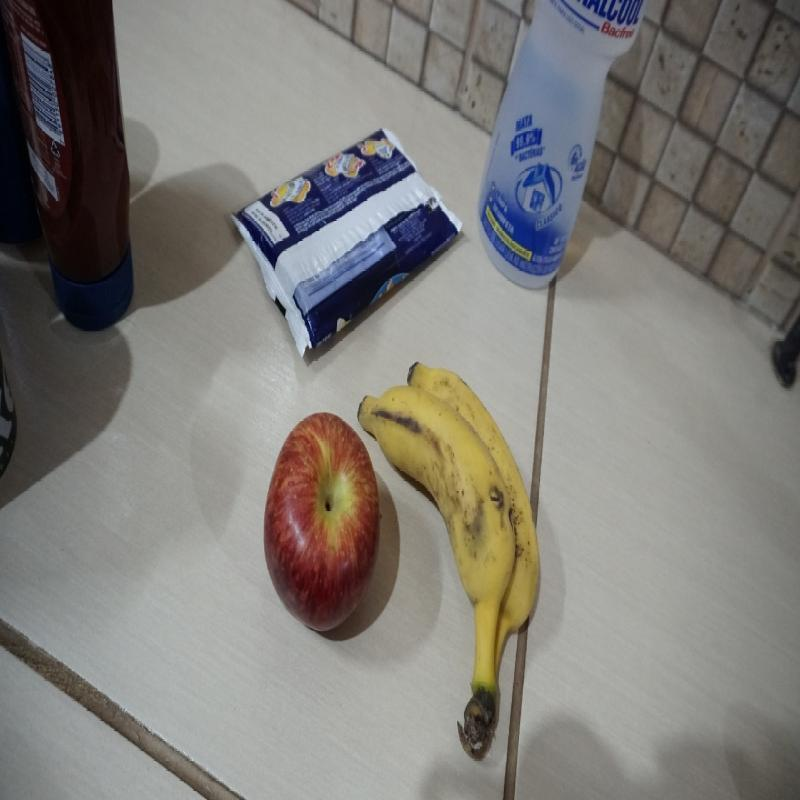Alcohol Bottle: (475, 0, 646, 293)
Apple: (262, 411, 382, 639)
Banana: (355, 361, 544, 761)
Ketchup: (0, 0, 136, 329)
Popcorn: (230, 128, 462, 356)
